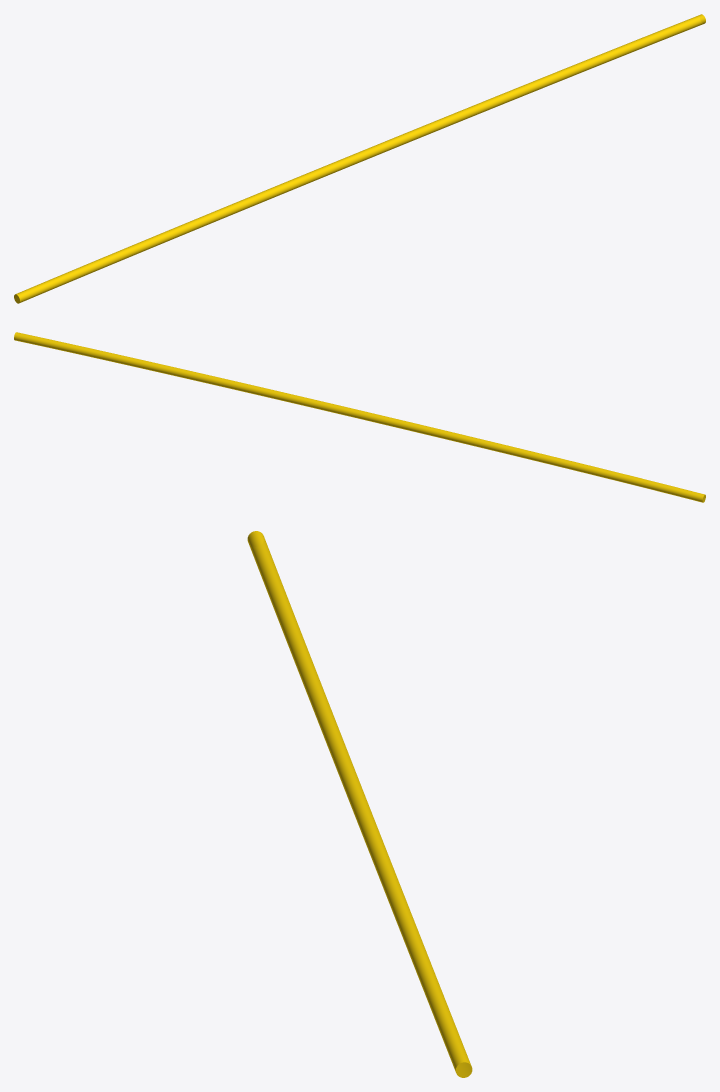
Rendered from Event_421115418_track_63.fbx.
3 renders of one model, top to bottom at view 1: azimuth 30°, elevation 25°; view 2: azimuth 150°, elevation 25°; view 3: azimuth 270°, elevation 25°, orthographic. The views are drawn at different scales.
Parts seen in each view (by area): view 1: Model; view 2: Model; view 3: Model.
Part boxes in pixels (x1,y1,x2,y2): Model: (14, 14, 705, 303); Model: (14, 332, 705, 502); Model: (247, 531, 472, 1077).
Bounding box in the file's own units: 3.48 × 0.2752 × 0.5311.
